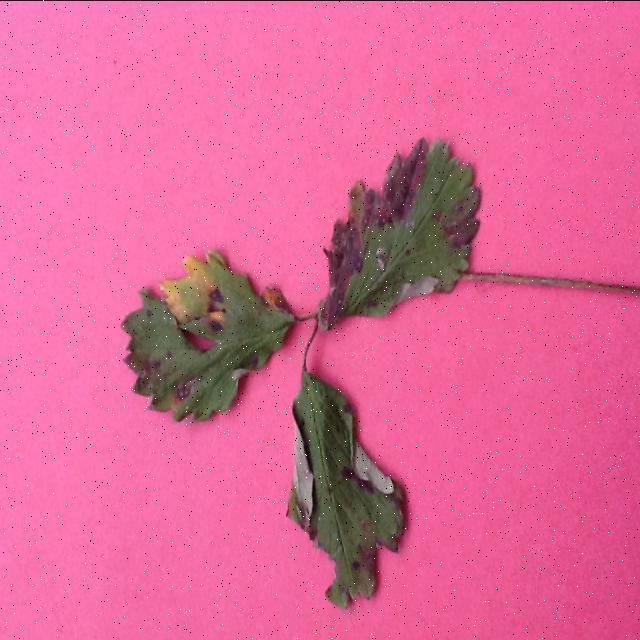foliage: (116, 132, 640, 614)
